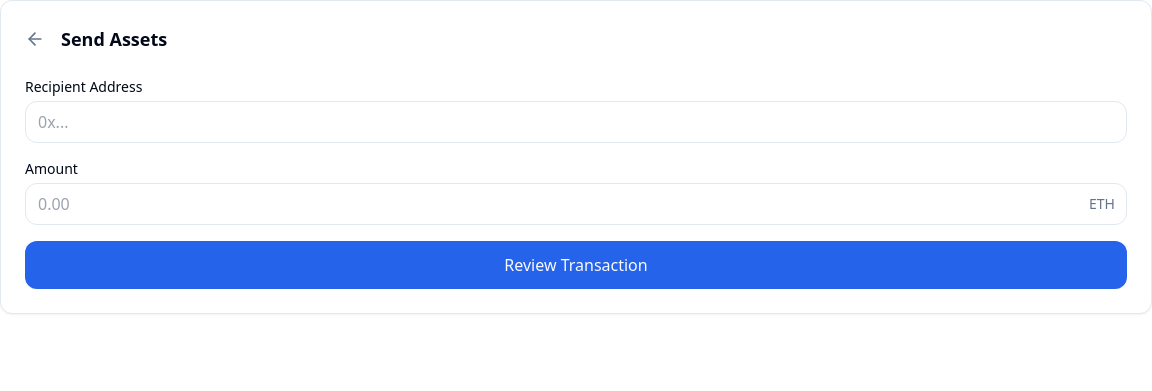
Scenario: TransferForm › should show error for invalid address
Type "invalid-address" into the field with placeholder "0x...".
click(576, 122); type("invalid-address")  # box [25, 101, 1127, 143]
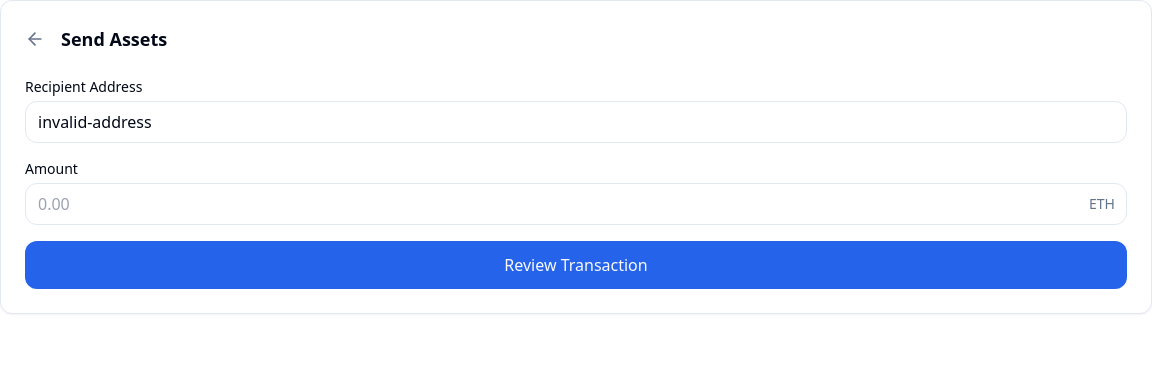
Type "1.0" into the number field with placeholder "0.00".
click(576, 204); type("1.0")  # box [25, 183, 1127, 225]
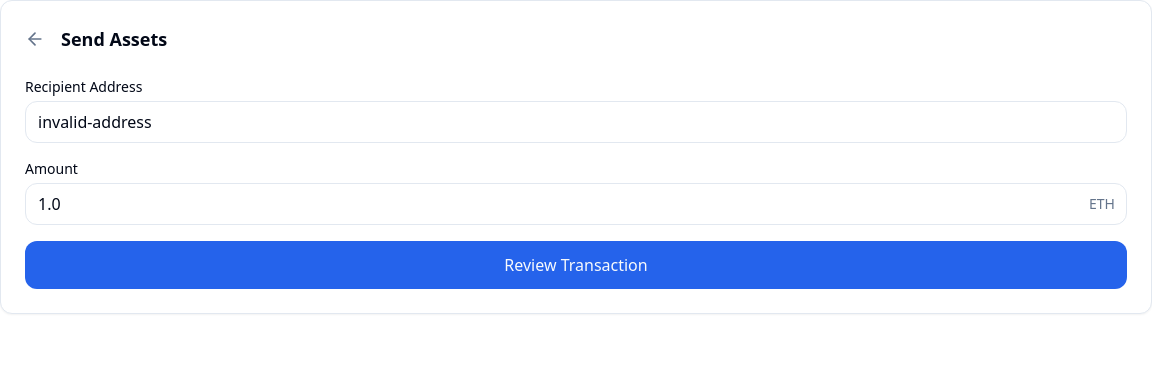
Click the button "Review Transaction".
click(576, 265)  # box [25, 241, 1127, 289]
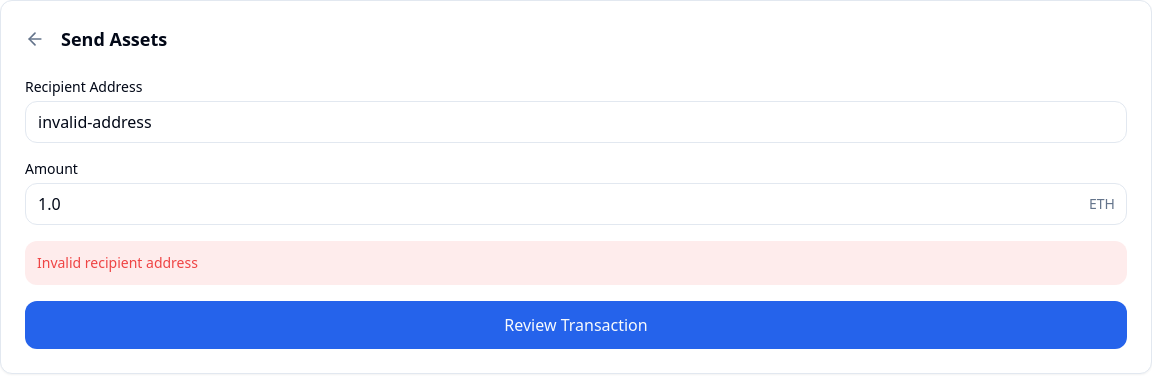
Expected: the text "Invalid recipient address" is shown, [25, 241, 1127, 285]
